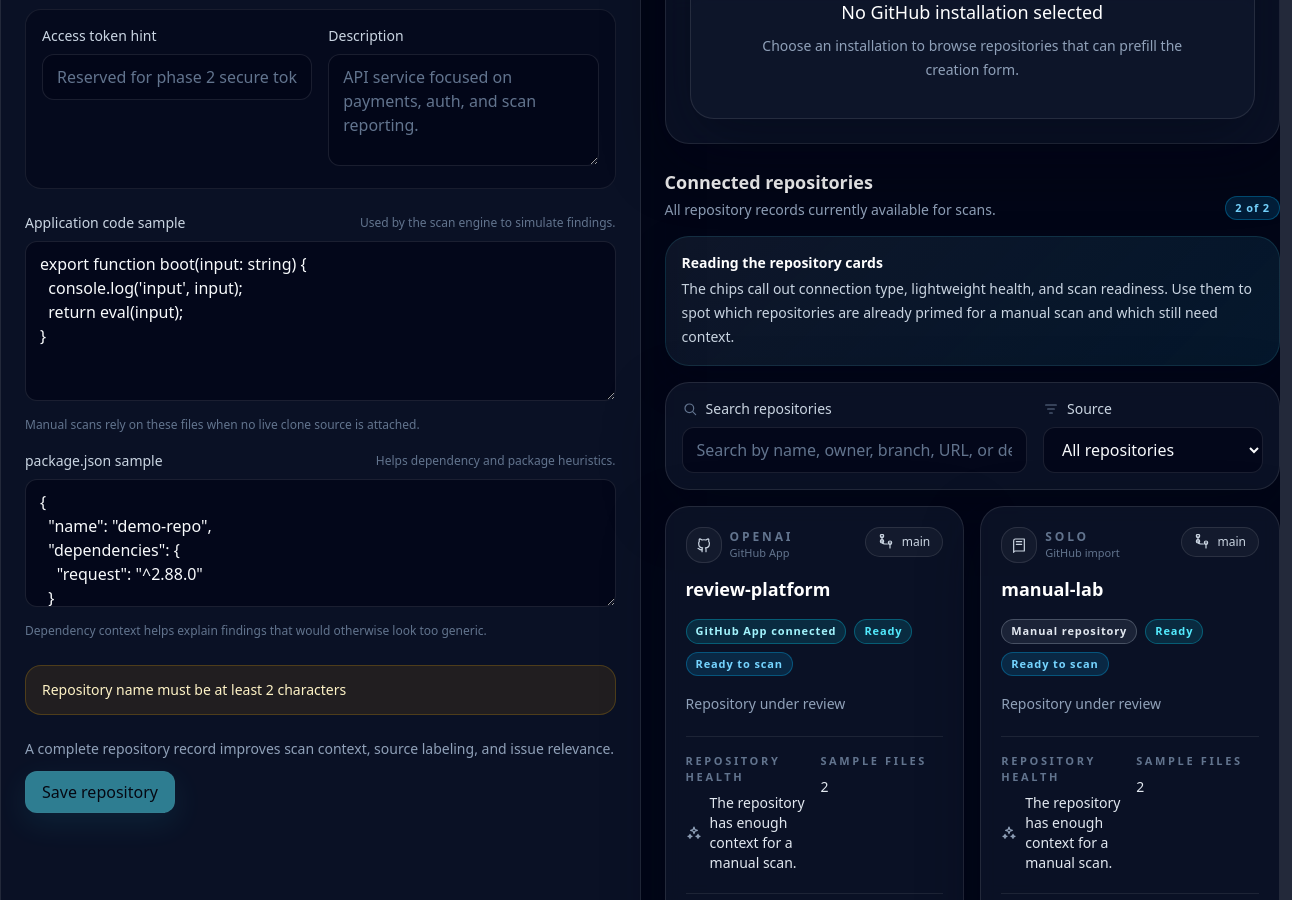
Test: RepositoriesPage › filters repositories by search text and source
(page scrolled)
Type "manual" into the field with placeholder "Search by name, owner, branch, URL, or description" at point(854, 450), box left=682, top=427, right=1027, bottom=473
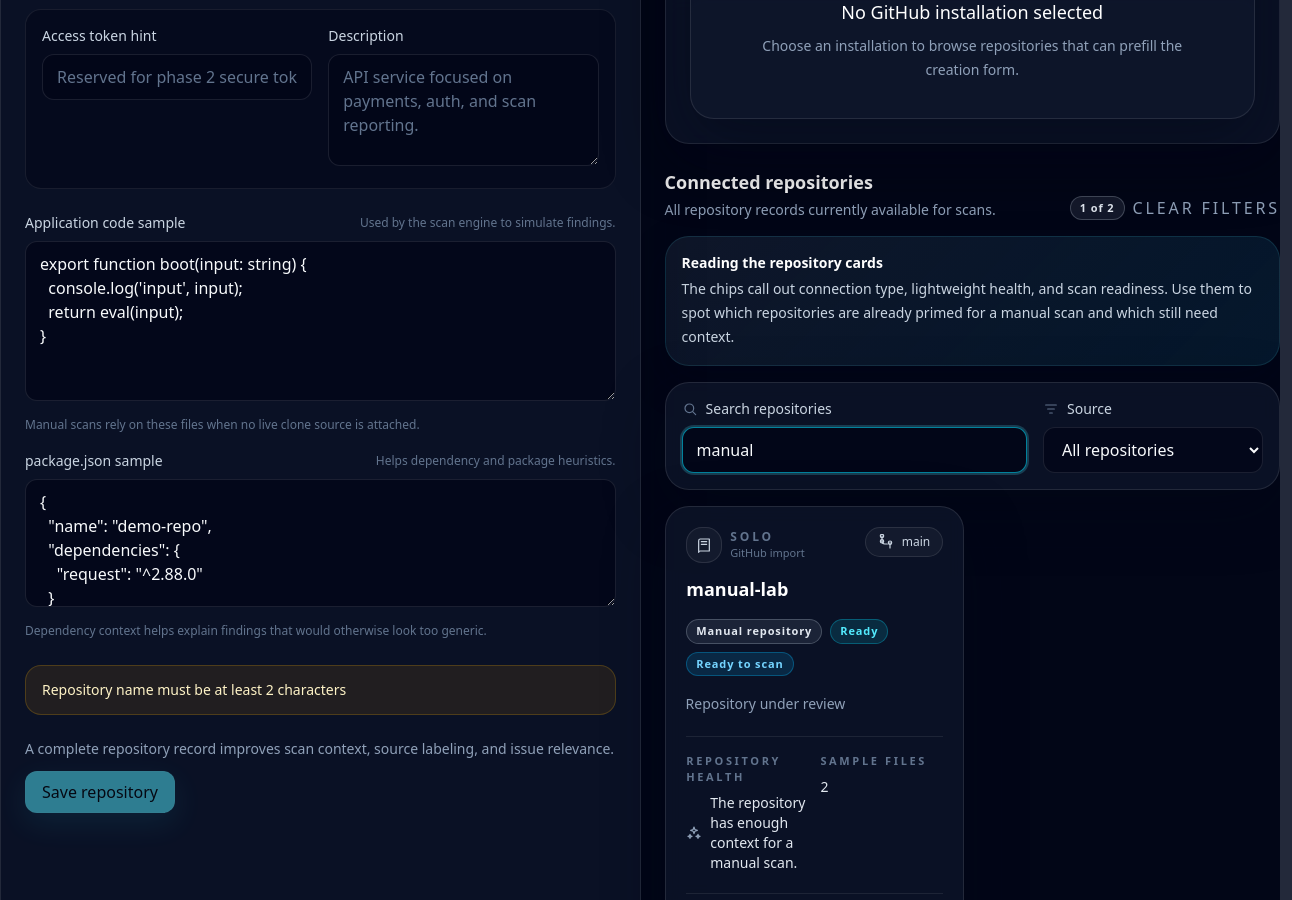
Expected: the heading "manual-lab" is shown, left=686, top=575, right=804, bottom=603
Expected: the link "review-platform" is gone
Clear the field with placeholder "Search by name, owner, branch, URL, or description" at point(854, 450), box left=682, top=427, right=1027, bottom=473
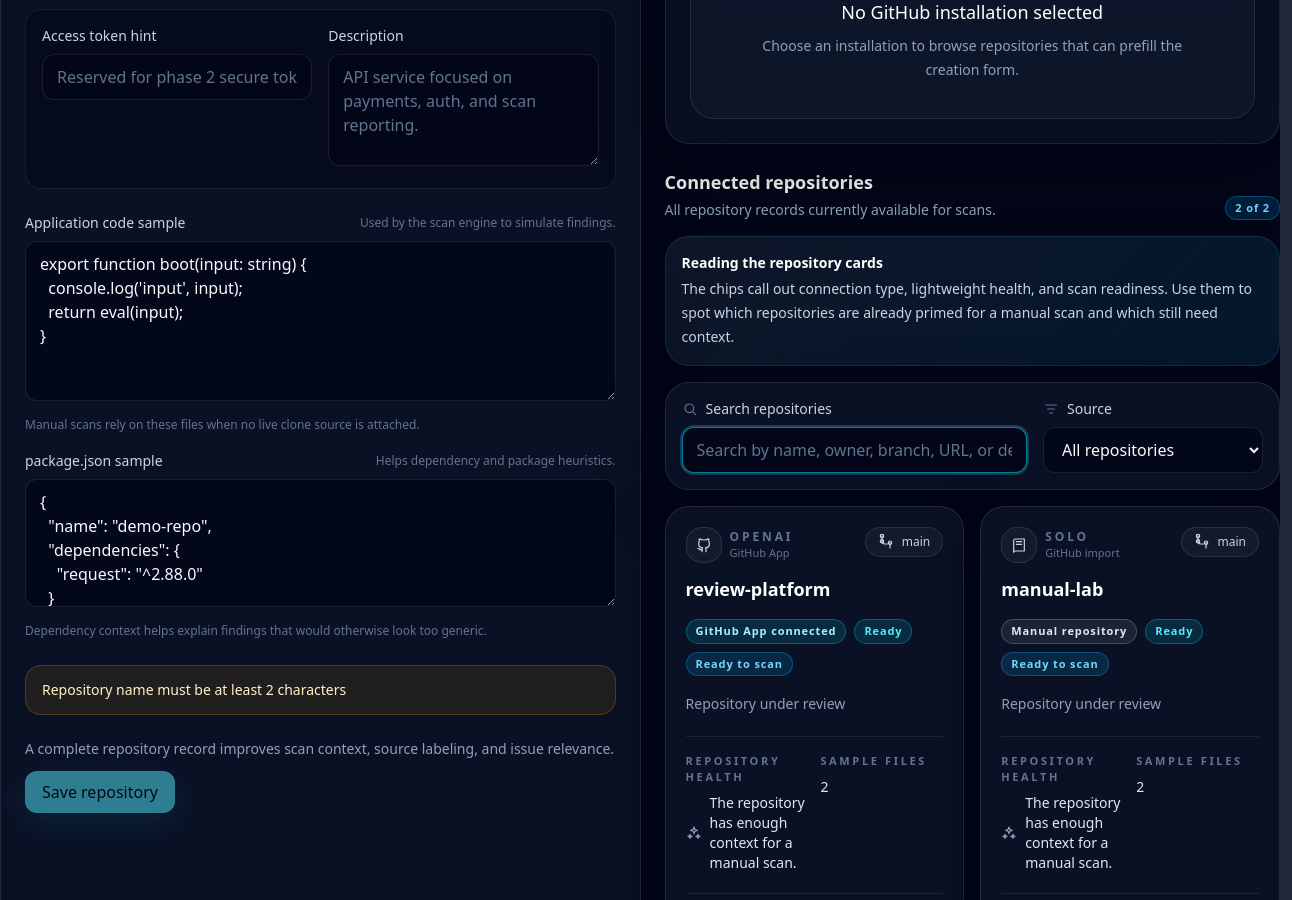
Select "GitHub App connected" in the dropdown named "Source" at point(1153, 450), box left=1043, top=427, right=1263, bottom=473
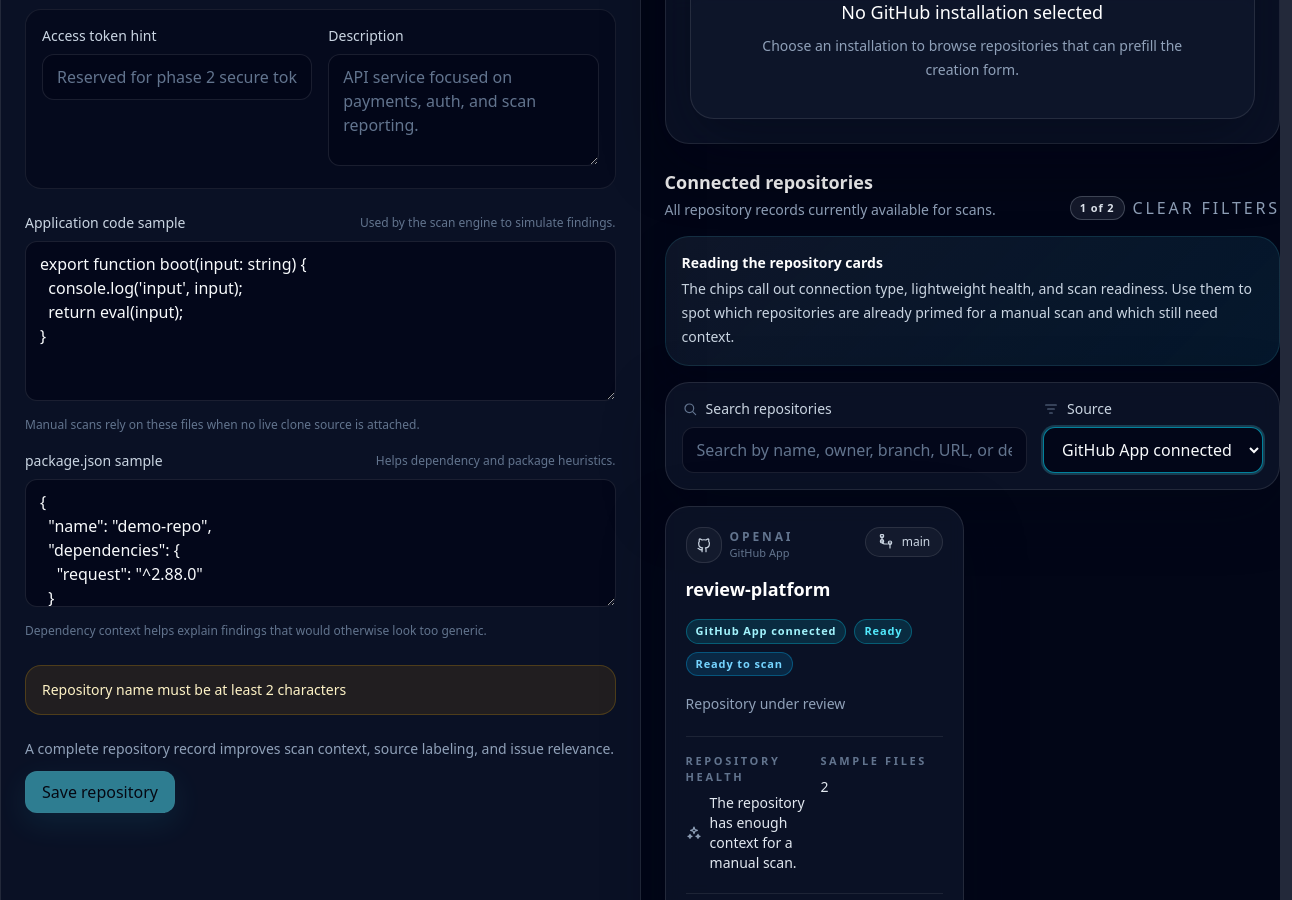
Expected: the heading "review-platform" is shown, left=686, top=575, right=830, bottom=603
Expected: the link "manual-lab" is gone
